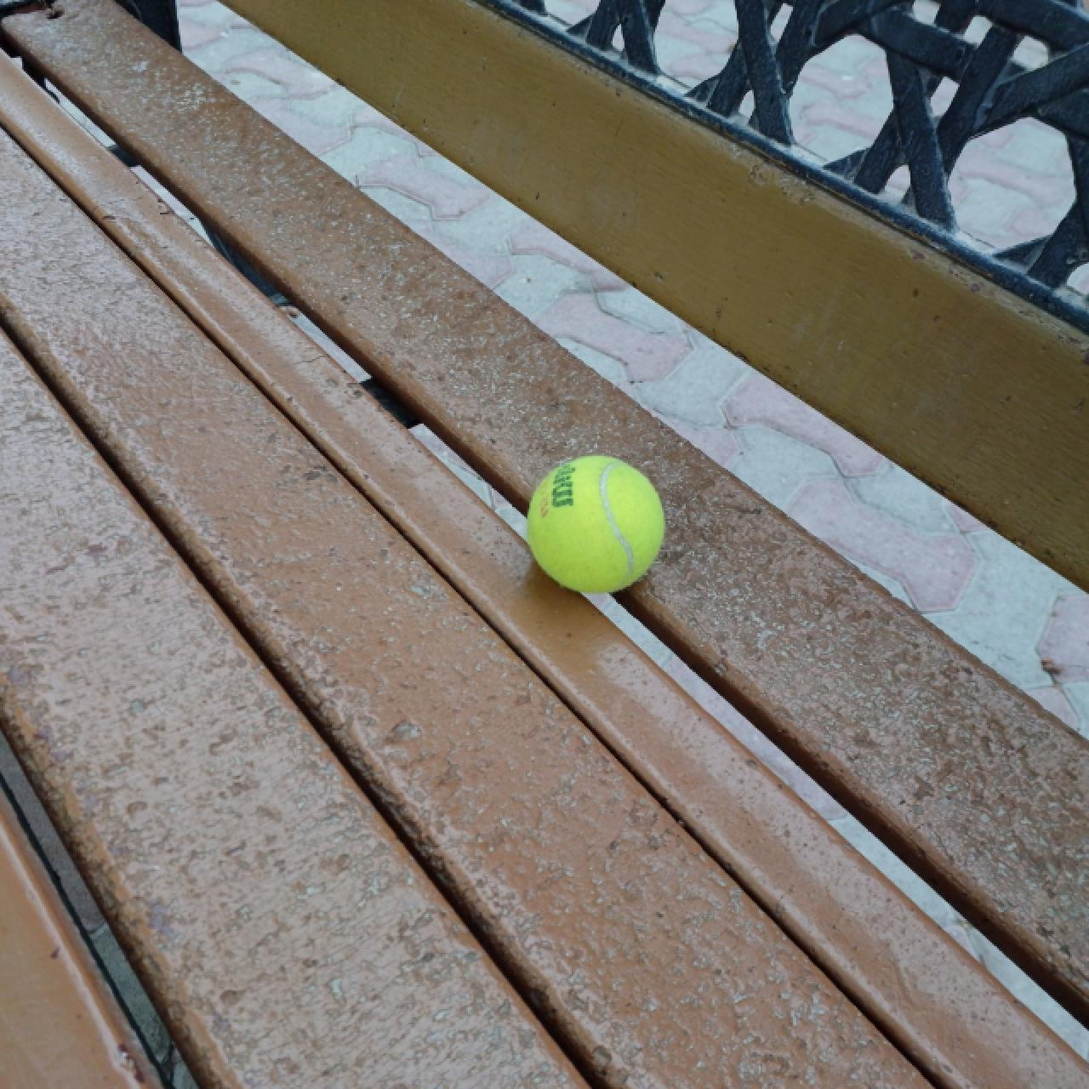tennis-ball: (525, 452, 668, 597)
